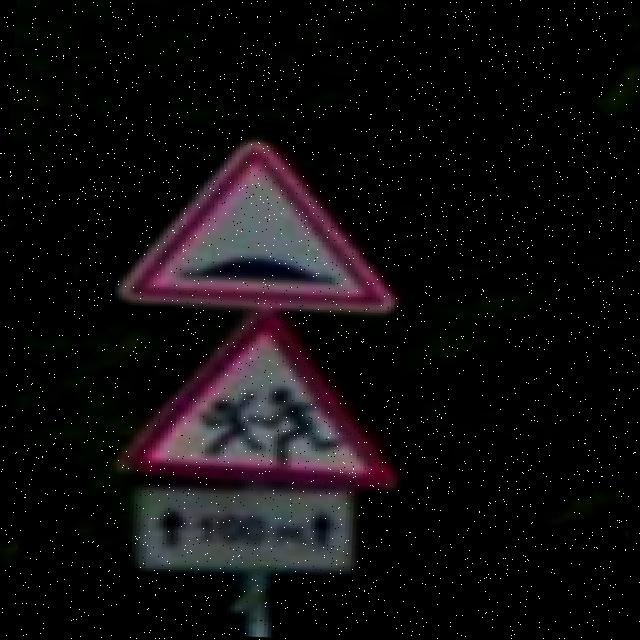Dzieci: (116, 304, 414, 493)
